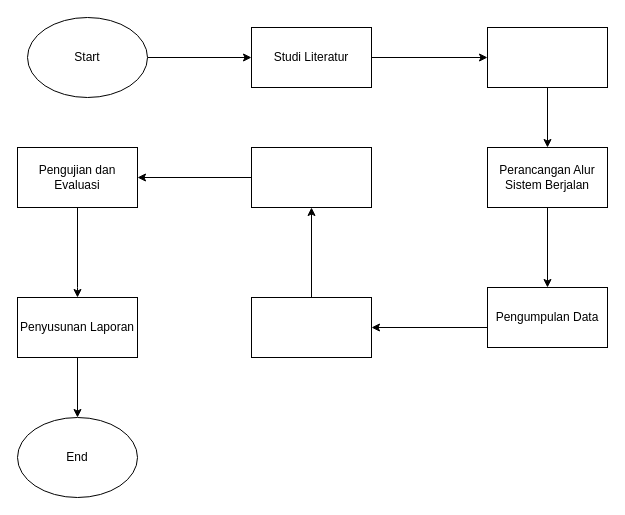
This 625x515 diagram has some shape labels left out. Each missing label, with the box of its shape:
Analisis Kebutuhan: (486, 26, 608, 88)
Pengembangan Sistem: (250, 146, 372, 208)
Preprocessing Data: (250, 296, 372, 358)
